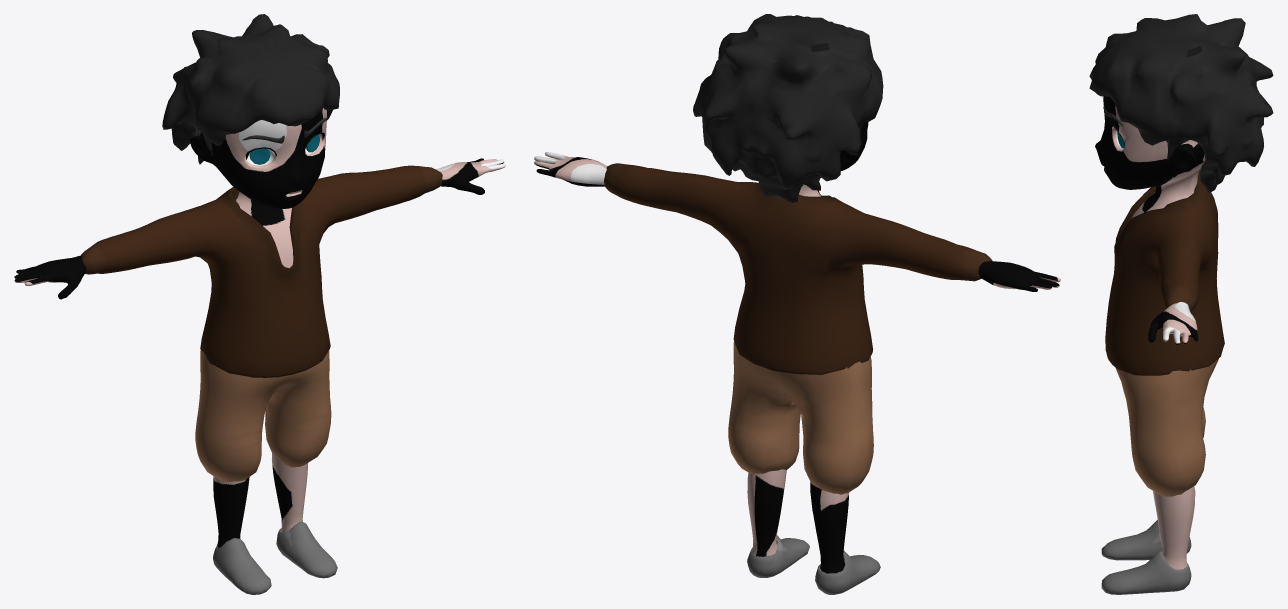
The model's file is Niño.fbx.
The picture shows the model from 3 angles, left to right: view 1: azimuth 30°, elevation 25°; view 2: azimuth 150°, elevation 25°; view 3: azimuth 270°, elevation 25°; orthographic projection. The views are drawn at different scales.
Visible parts, largest first — view 1: Personaje; view 2: Personaje; view 3: Personaje.
Boxes of the visible parts, x1,y1,x2,y2 form: Personaje: (14,14,505,594); Personaje: (534,14,1060,594); Personaje: (1089,14,1273,594).
Bounding box in the file's own units: 134 × 136 × 41.76.
